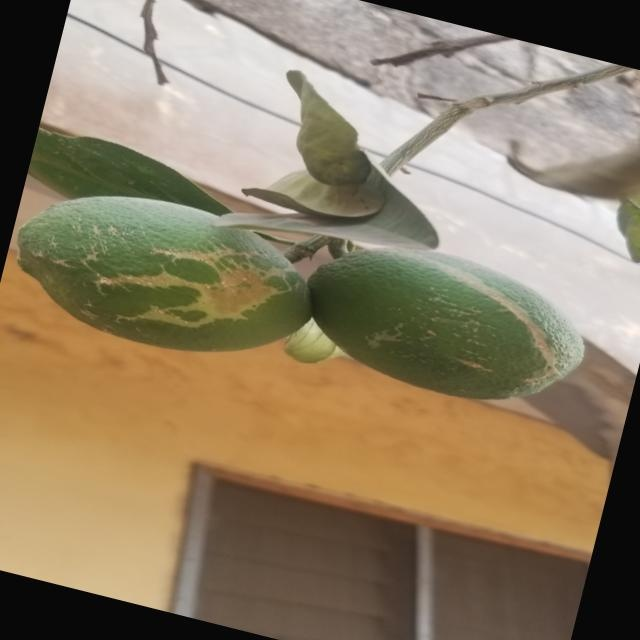agrume: (0, 166, 310, 374), (284, 221, 596, 423)
